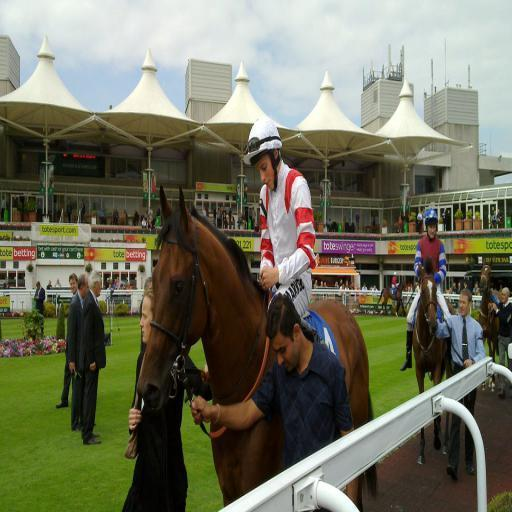horse: (136, 186, 380, 512), (410, 259, 456, 468), (477, 257, 502, 393)
